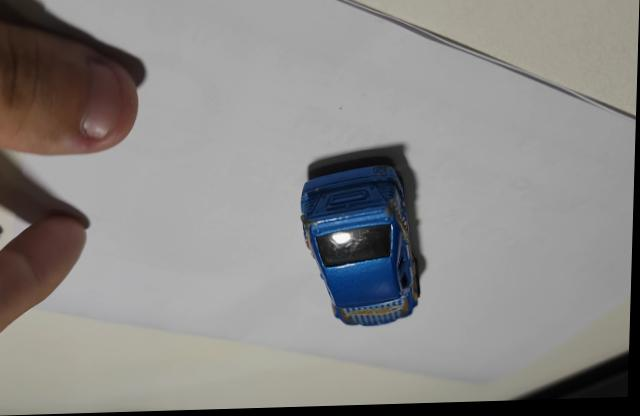04_MERZEDES: (301, 158, 429, 328)
